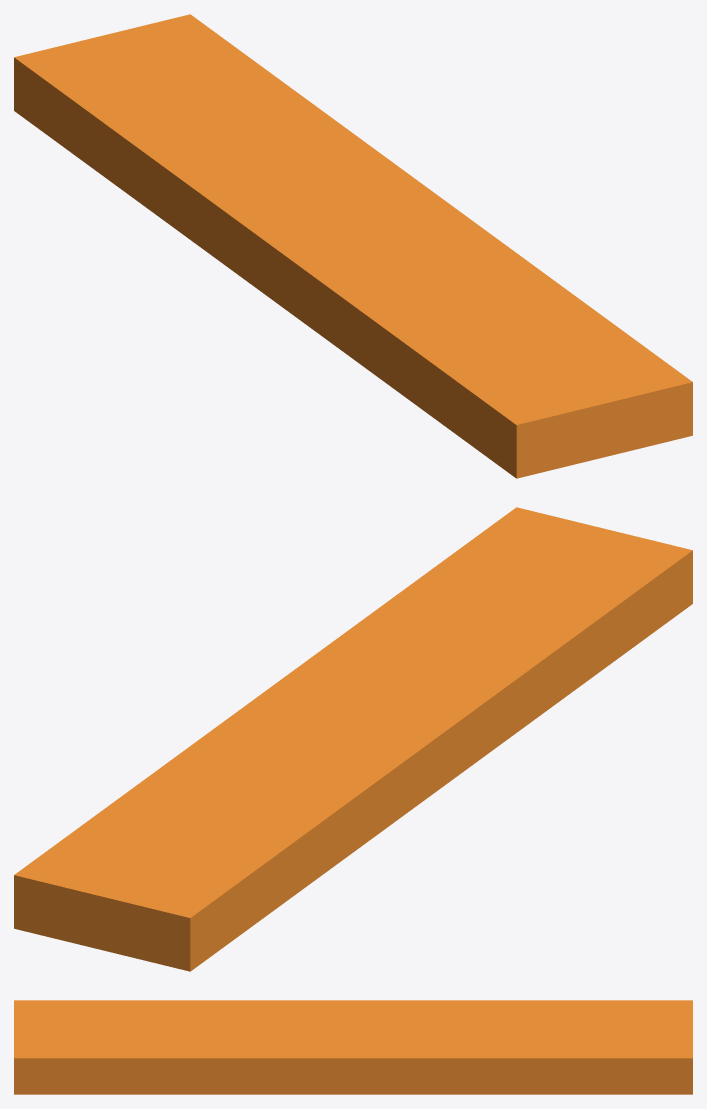
The model's file is nastrocompleto.glb.
3 renders of one model, top to bottom at view 1: azimuth 30°, elevation 25°; view 2: azimuth 150°, elevation 25°; view 3: azimuth 270°, elevation 25°, orthographic. The views are drawn at different scales.
Parts seen in each view (by area): view 1: Nastro completo; view 2: Nastro completo; view 3: Nastro completo.
Boxes of the visible parts, x1,y1,x2,y2 form: Nastro completo: (14, 14, 692, 478); Nastro completo: (14, 507, 692, 971); Nastro completo: (14, 1000, 692, 1094).
Size of the model in its own units: 0.2209 by 0.0641 by 1.09.
